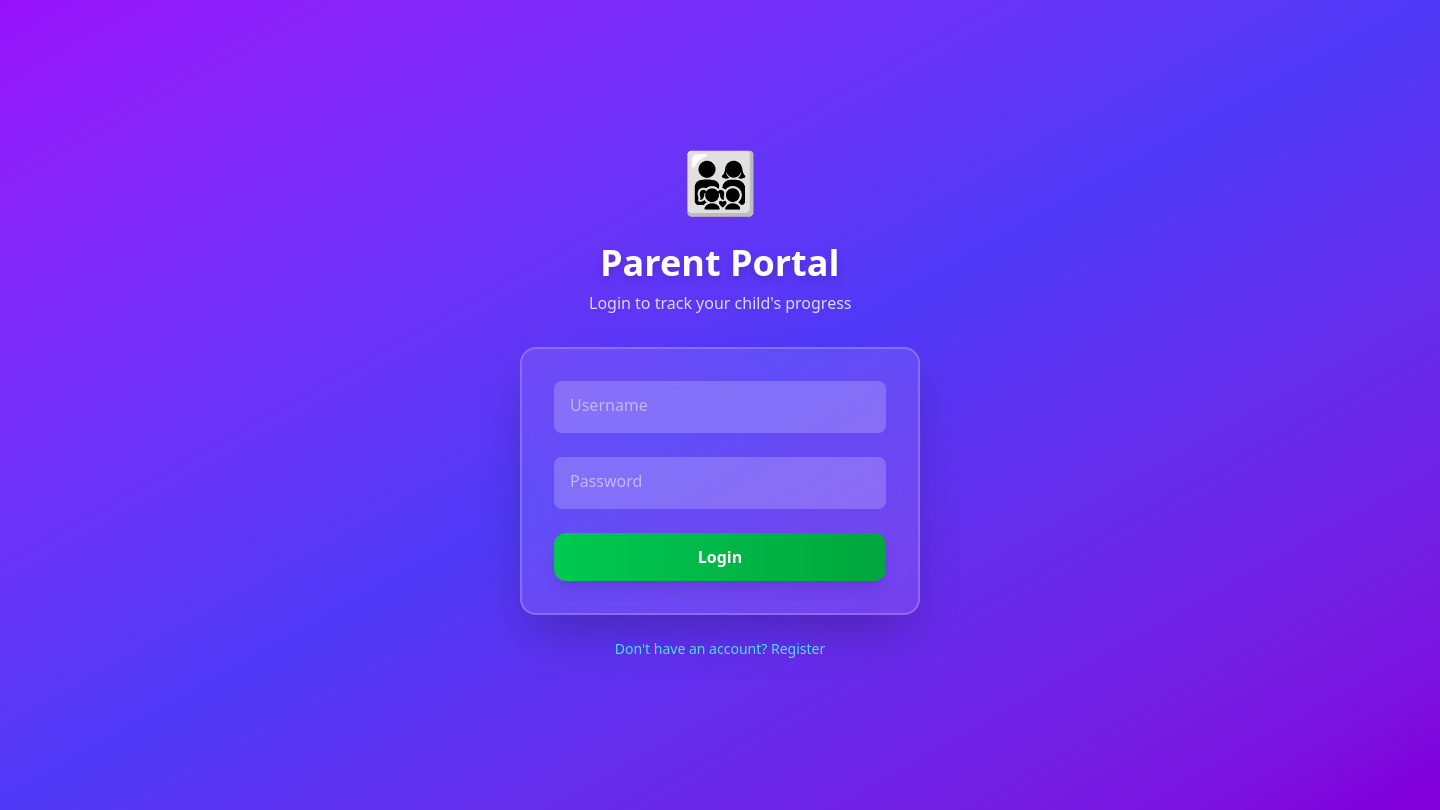
Test: ParentLogin › should show validation error for short password
Type "parent1" into the field labelled "Username" at (720, 407), box [554,381,886,433]
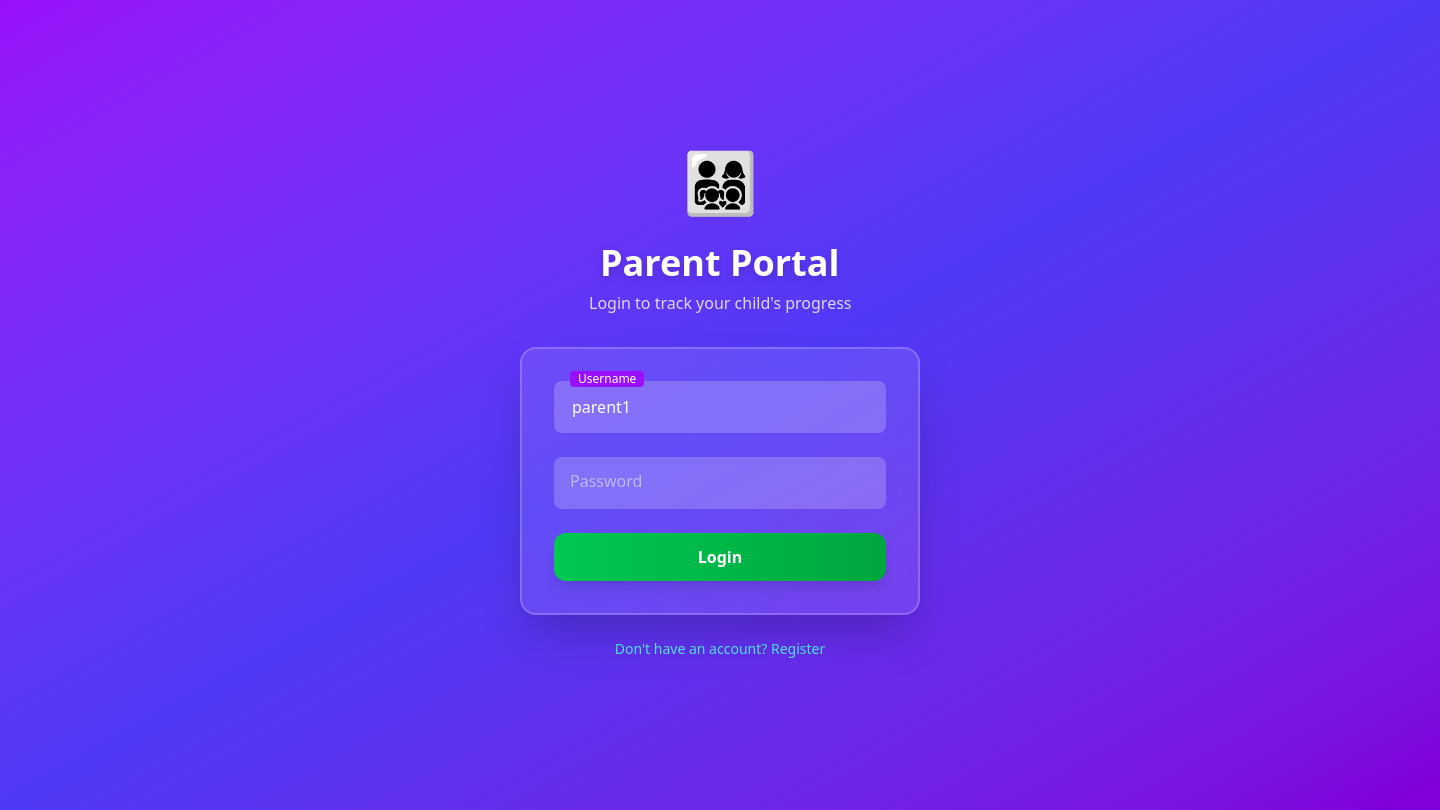
Type "12345" into the password field labelled "Password" at (720, 483), box [554,457,886,509]
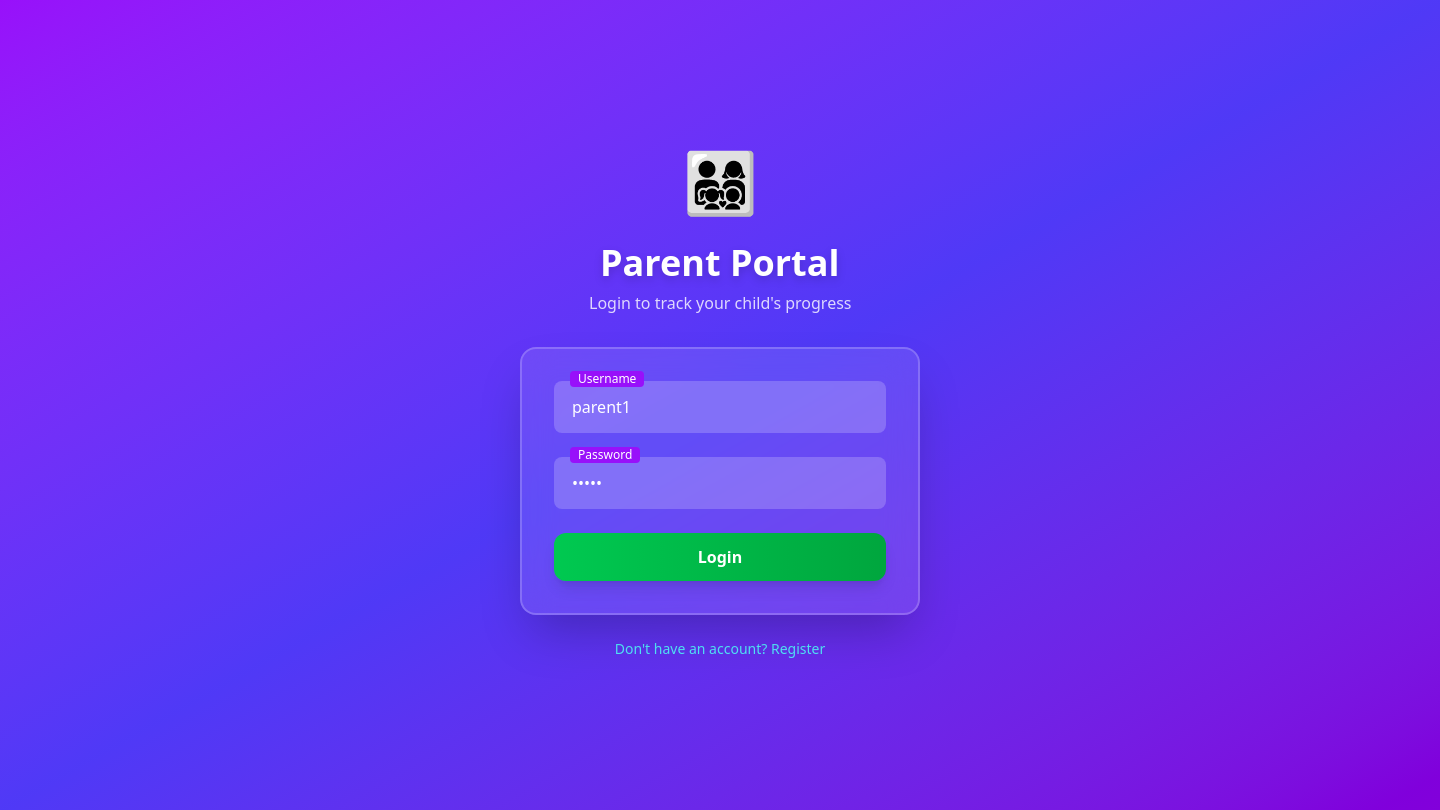
Click the button "Login" at (720, 557), box [554,533,886,581]
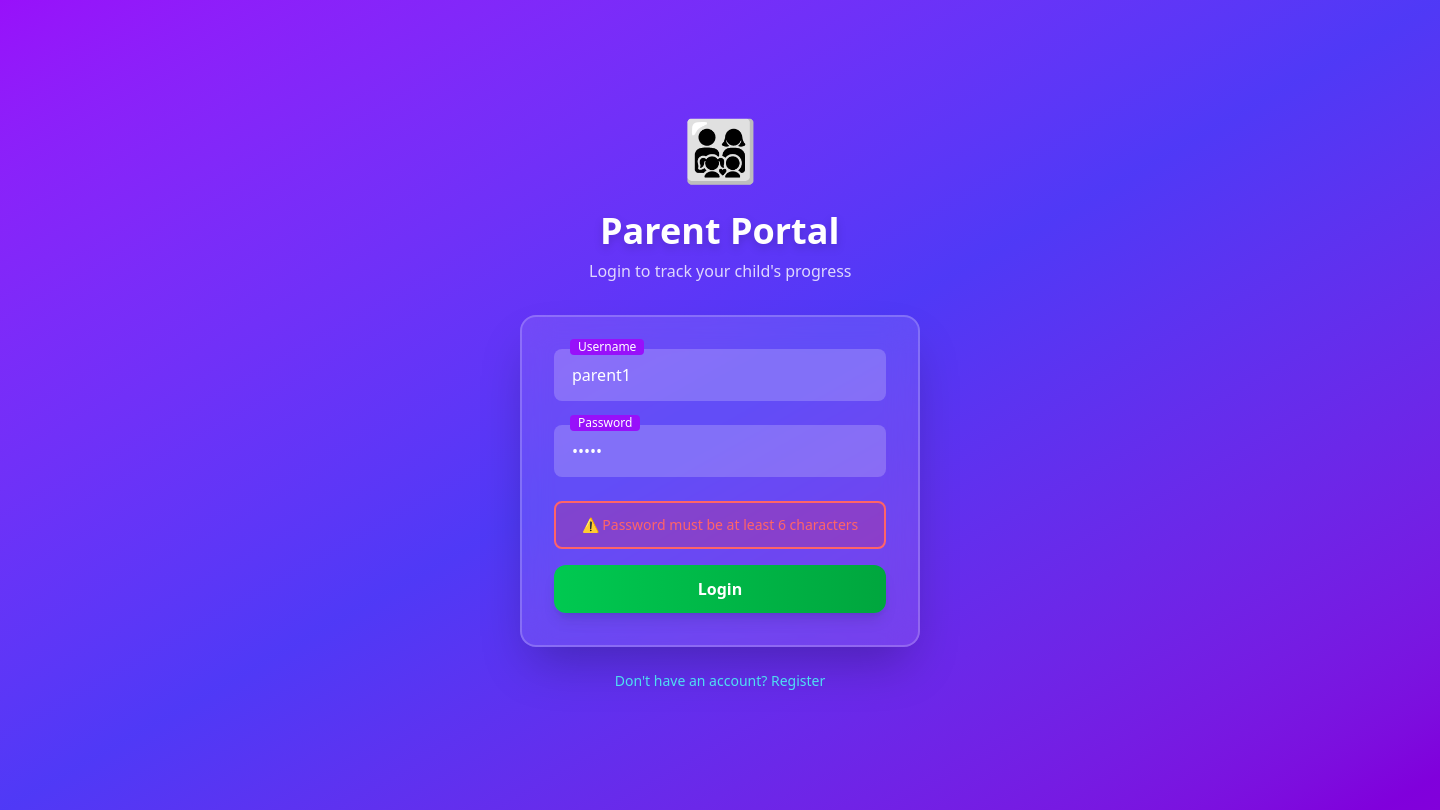
expect the text "⚠️ Password must be at least 6 characters" is shown: met, box [568,515,872,535]
